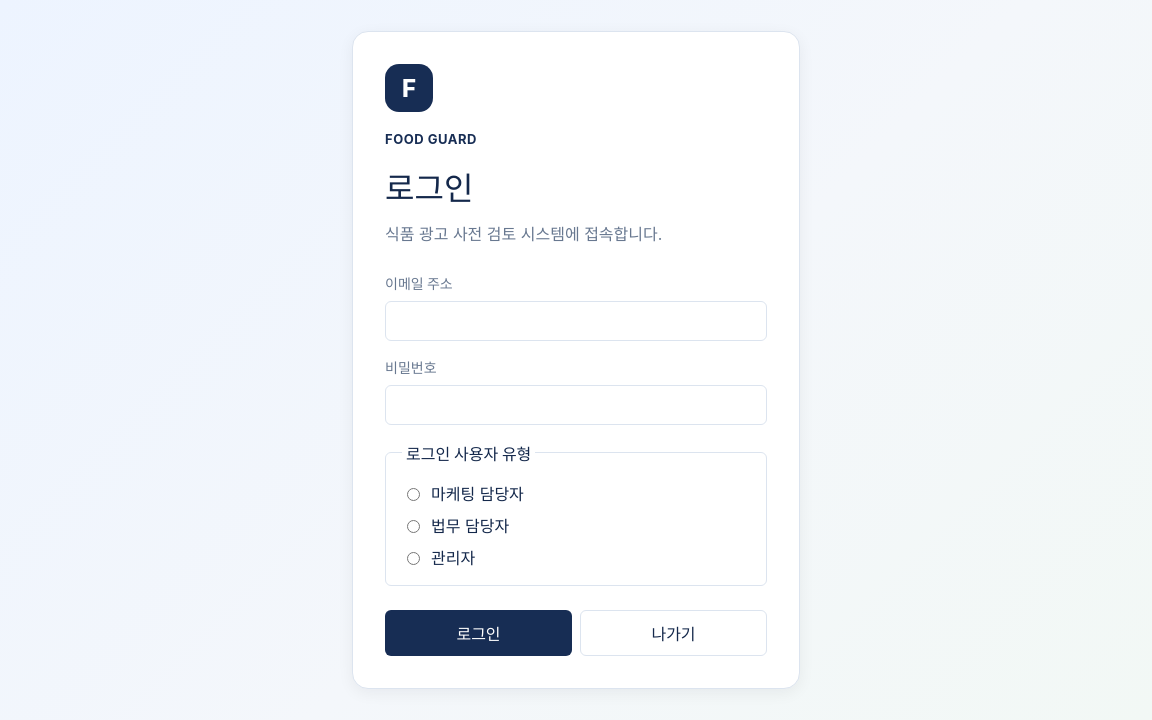
LoginPage › returns to the previous page when the user clicks exit
The width and height of the screenshot is (1152, 720).
Click the button "나가기".
click(674, 633)  # box [580,610,767,656]
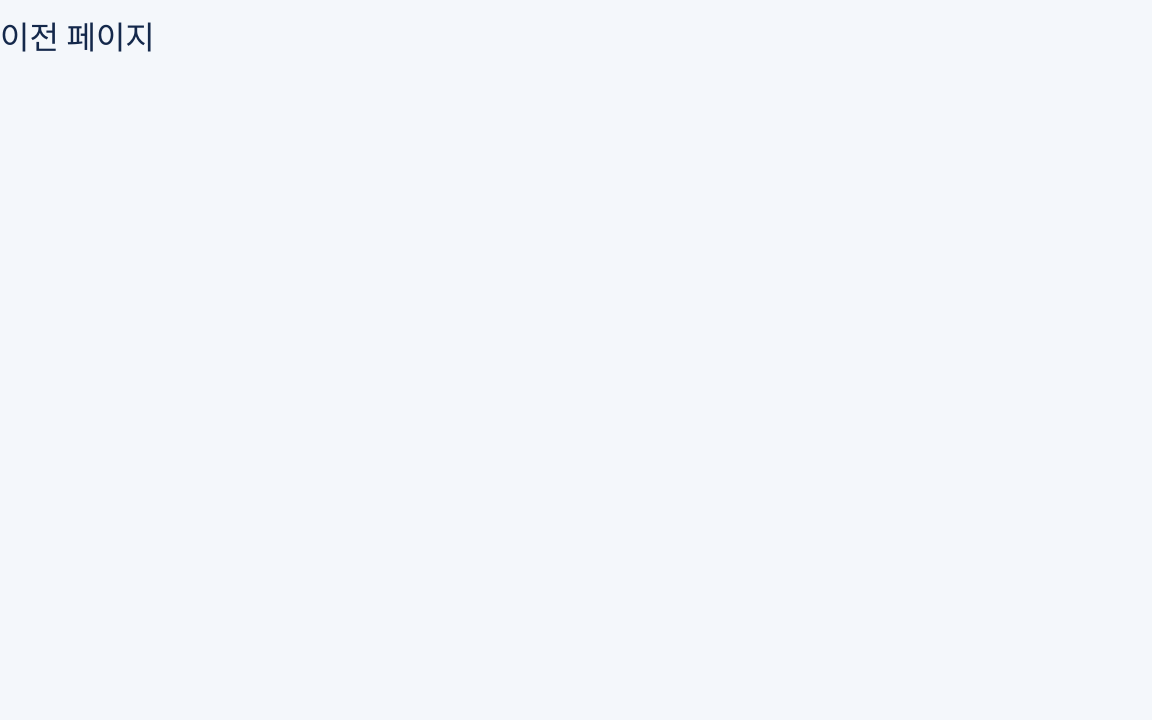
Expected: the heading "이전 페이지" is shown, [0,18,155,57]
